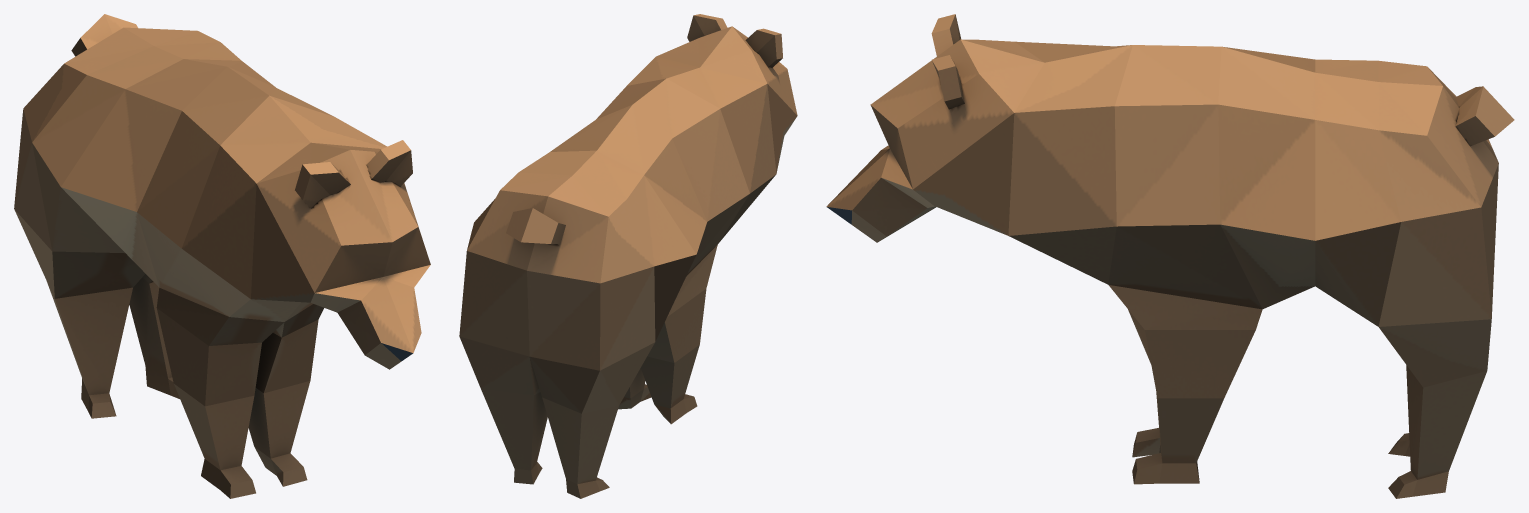
The model's file is PUSHILIN_bear.obj.
3 renders of one model, left to right at view 1: azimuth 30°, elevation 25°; view 2: azimuth 150°, elevation 25°; view 3: azimuth 270°, elevation 25°, orthographic. The views are drawn at different scales.
Visible parts, largest first — view 1: bear; view 2: bear; view 3: bear.
Part boxes in pixels (<box>): bear: <box>14,14,430,498</box>; bear: <box>459,14,797,498</box>; bear: <box>826,14,1514,498</box>.
Bounding box in the file's own units: 0.9821 × 1.55 × 2.24.
1 material, 1 textured.
